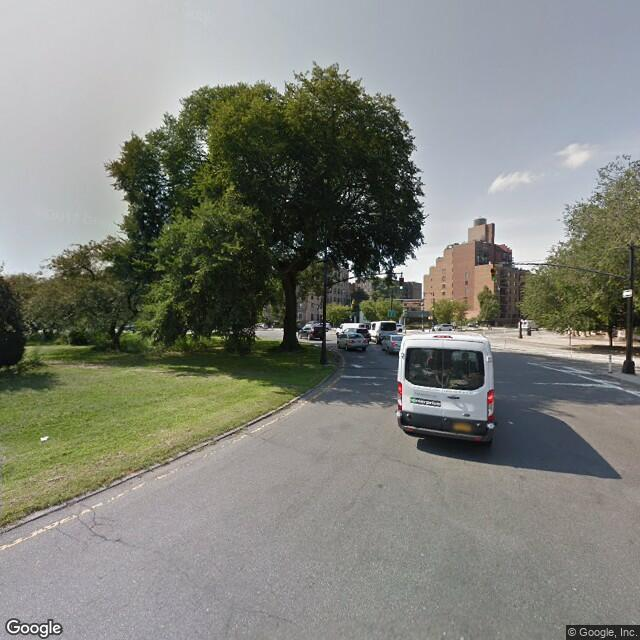litter: (39, 434, 52, 443), (506, 418, 514, 423)
